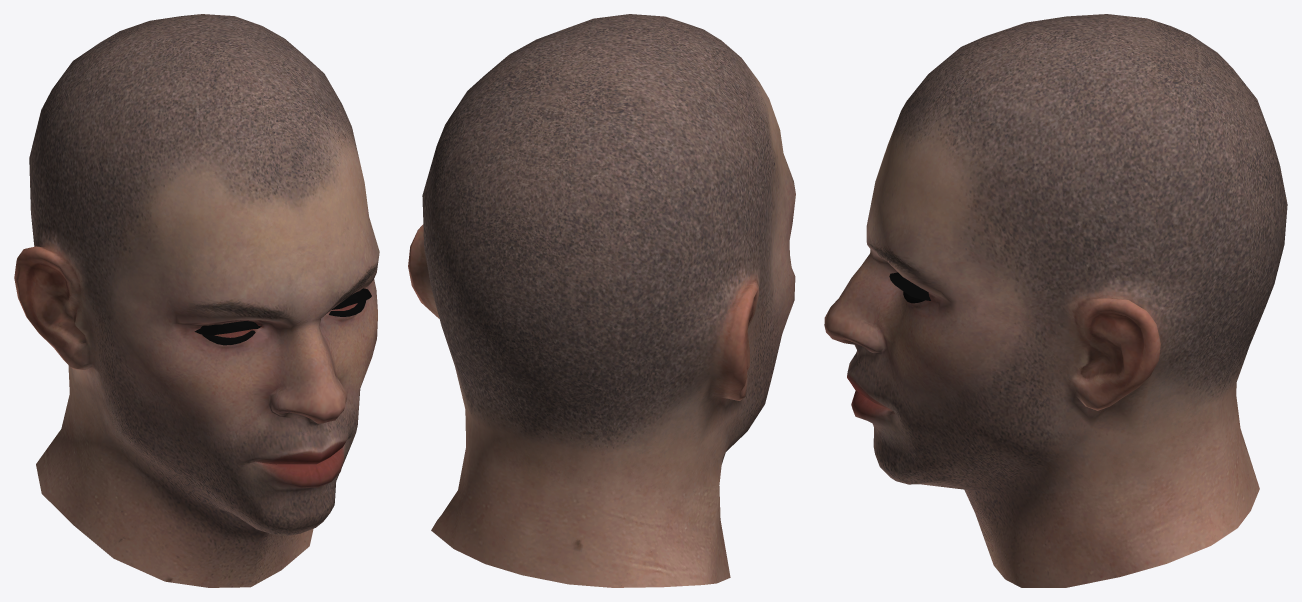
File: SurvivorMale_Head_07_LOD0.glb
3 renders of one model, left to right at view 1: azimuth 30°, elevation 25°; view 2: azimuth 150°, elevation 25°; view 3: azimuth 270°, elevation 25°, orthographic. The views are drawn at different scales.
Parts seen in each view (by area): view 1: Hoodie; view 2: Hoodie; view 3: Hoodie.
Part boxes in pixels (box(x1,y1,x2,y2)): Hoodie: box(14, 14, 379, 587); Hoodie: box(408, 14, 795, 587); Hoodie: box(824, 14, 1287, 587).
Bounding box in the file's own units: 0.1834 × 0.2889 × 0.2264.
1 material, 1 textured.
